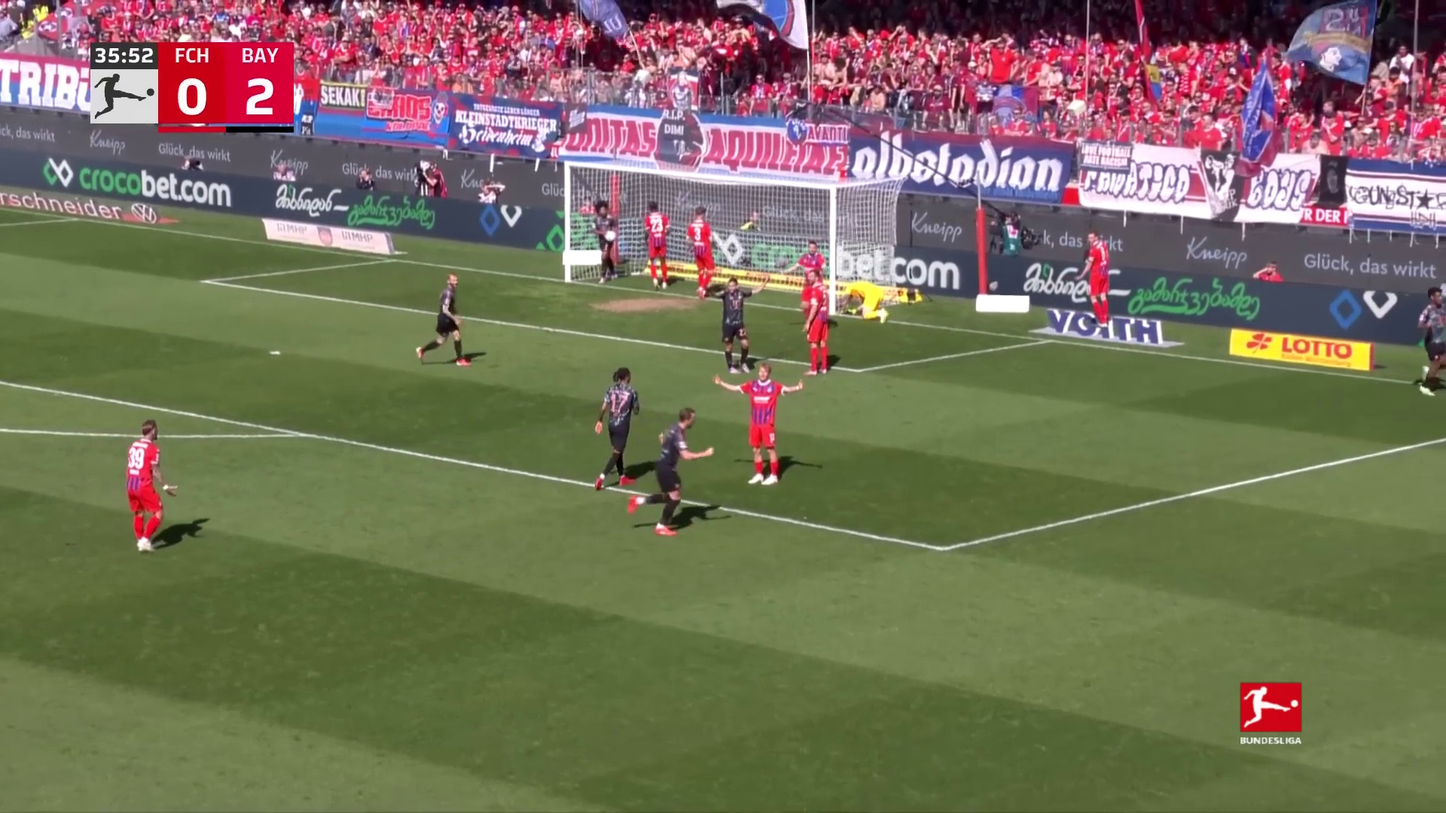ball: (604, 230, 618, 242)
player: (713, 360, 806, 489), (628, 404, 716, 537), (120, 419, 179, 556), (591, 366, 644, 494), (711, 271, 771, 375), (415, 271, 472, 368), (798, 271, 840, 377), (782, 240, 829, 329), (1073, 229, 1112, 328), (1415, 287, 1446, 399), (686, 207, 715, 300), (832, 280, 892, 324), (590, 197, 619, 286), (642, 202, 671, 290)
